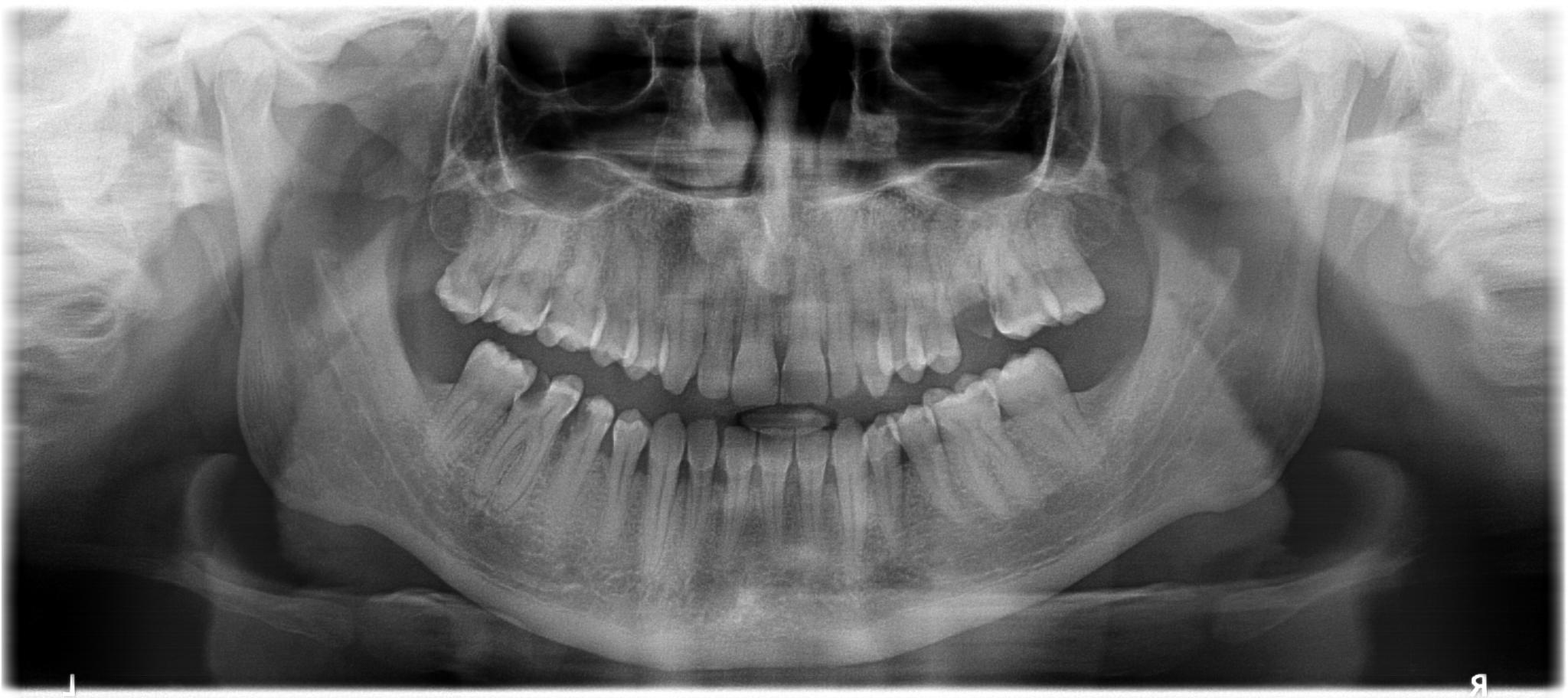Premolars: (477, 207, 1385, 605), (460, 219, 1345, 626), (512, 194, 1478, 557), (301, 177, 871, 596), (529, 129, 1548, 341), (392, 216, 1169, 494), (306, 186, 865, 551), (289, 93, 845, 380)
